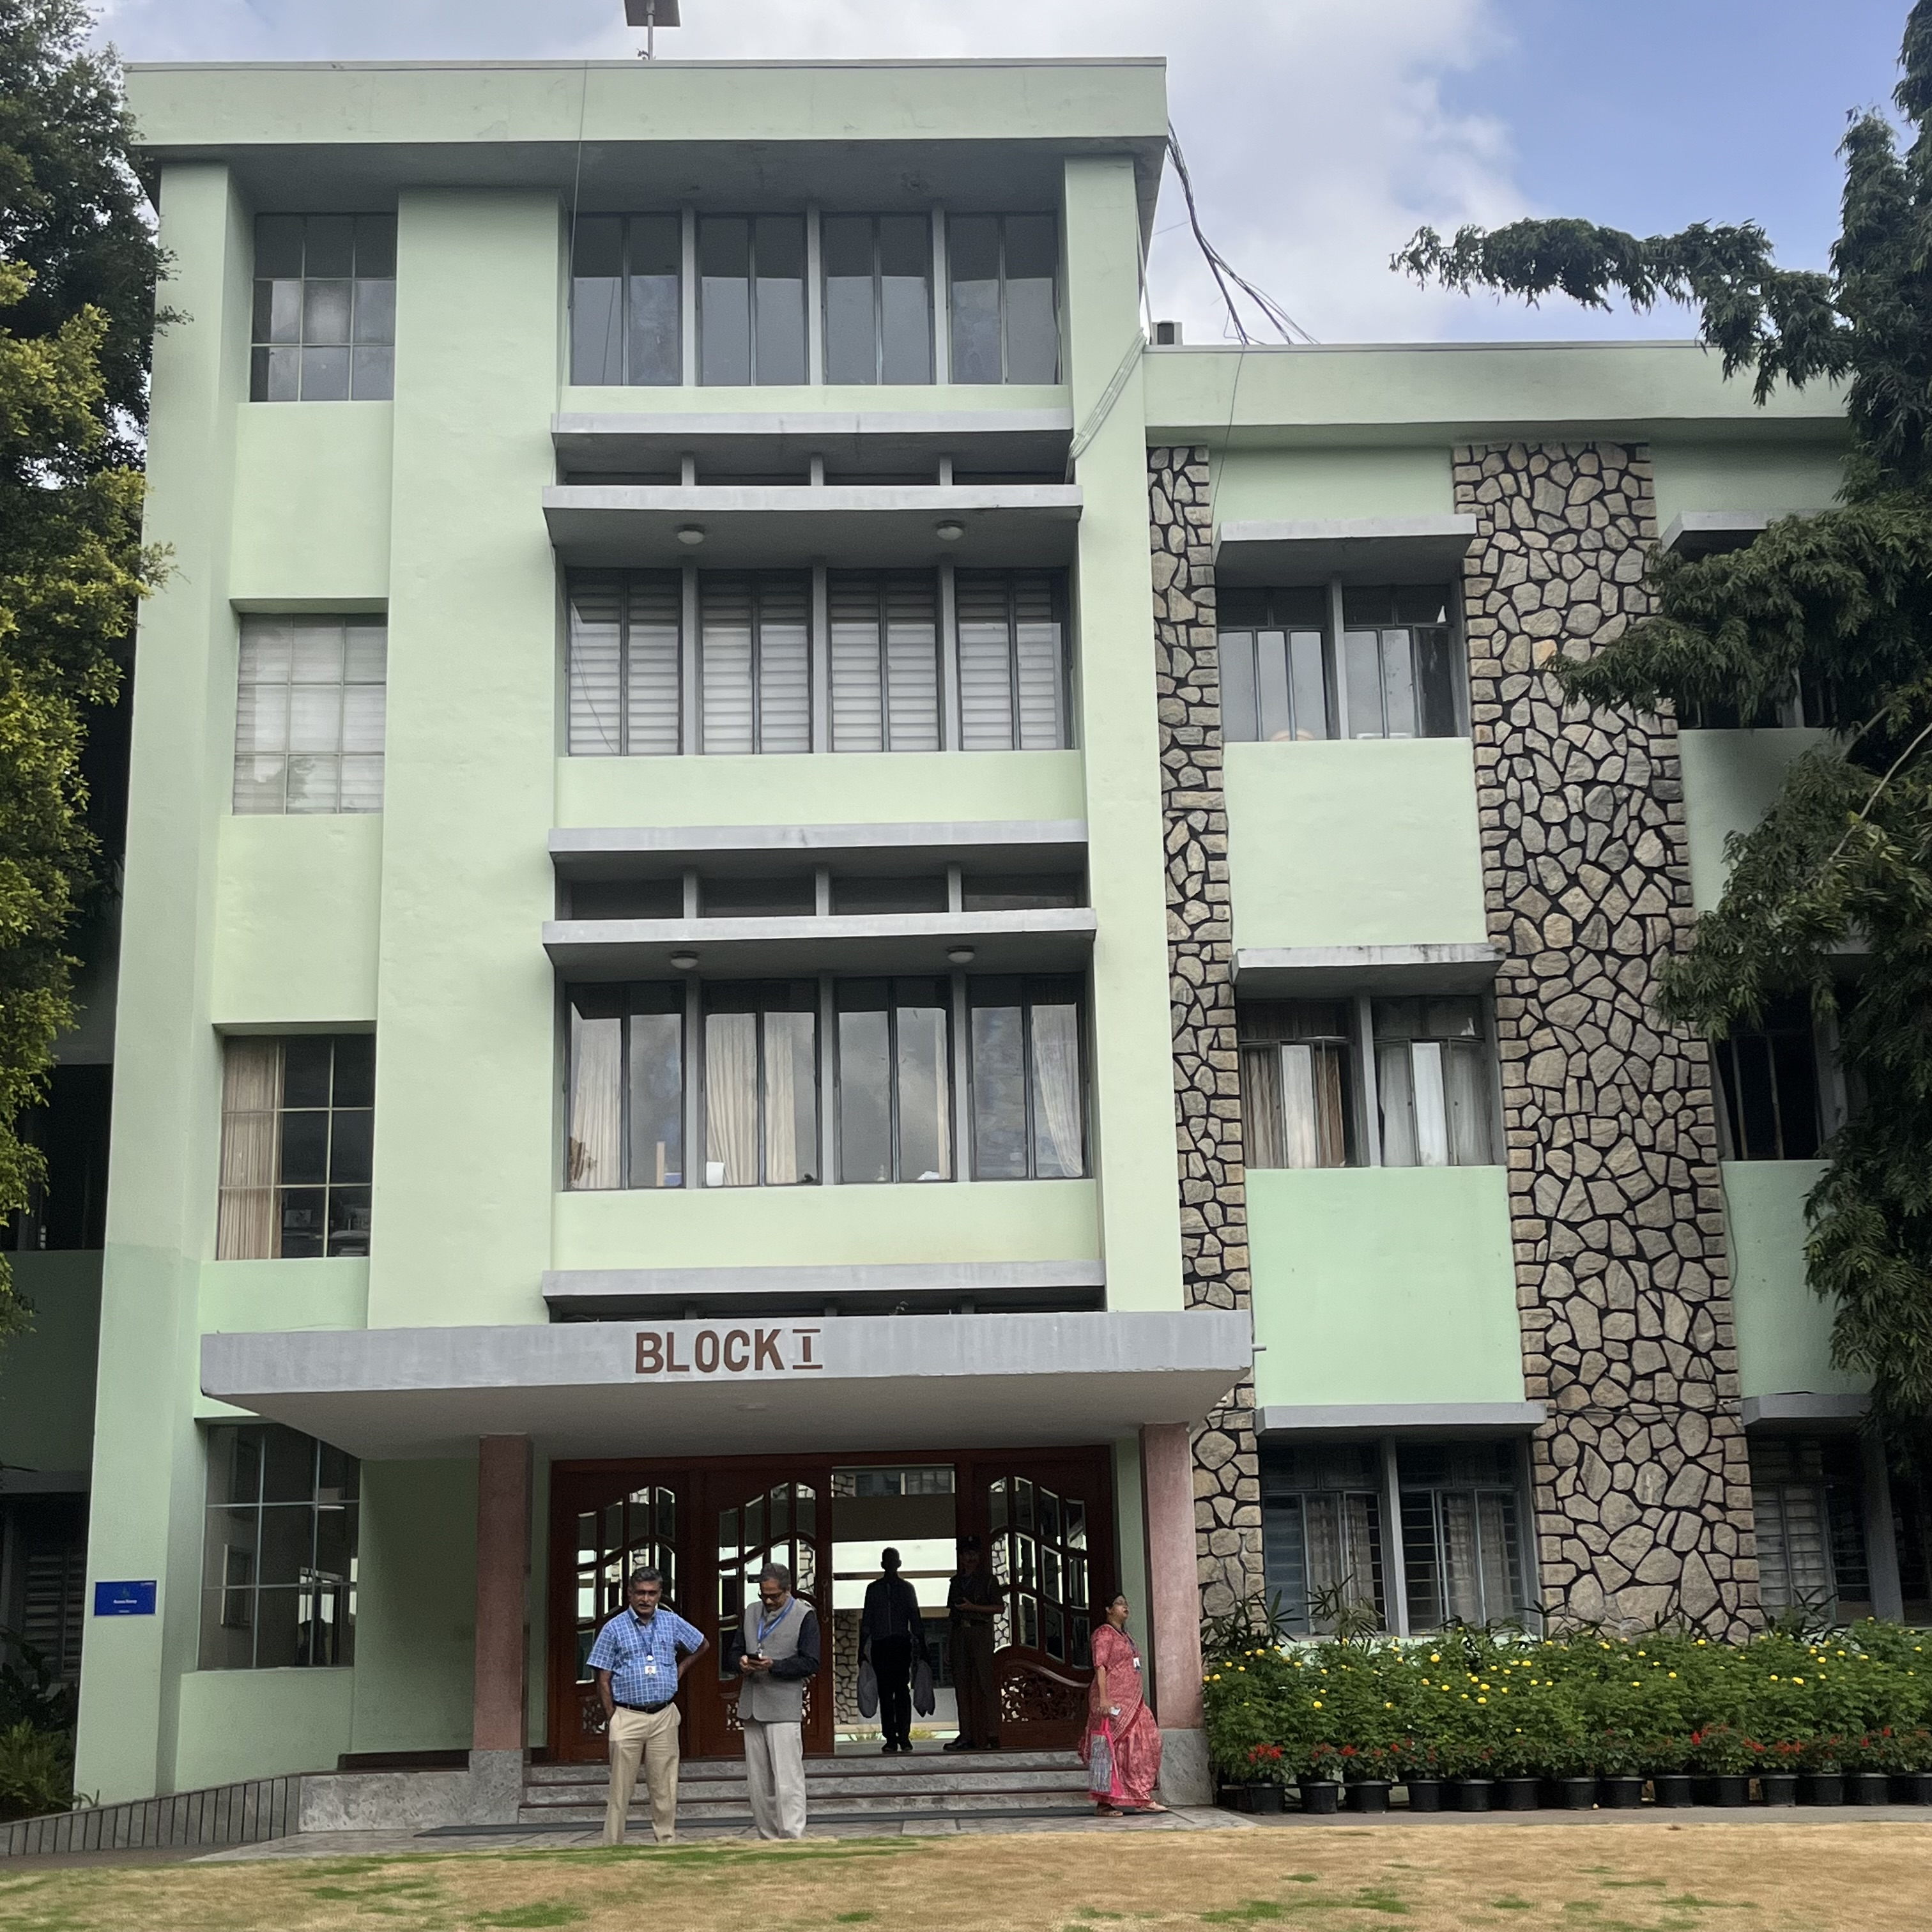Block 1: (76, 39, 1870, 1835)
